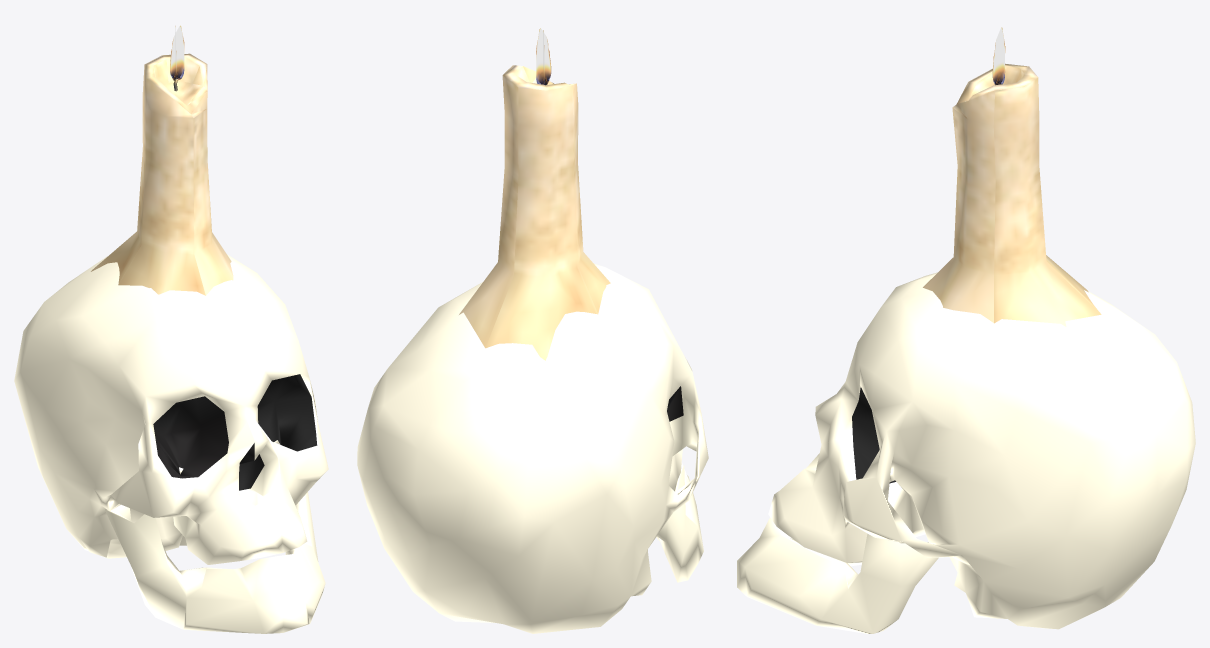
File: CandleSkullShapeA.002.glb
3 renders of one model, left to right at view 1: azimuth 30°, elevation 25°; view 2: azimuth 150°, elevation 25°; view 3: azimuth 270°, elevation 25°, orthographic. The views are drawn at different scales.
Parts seen in each view (by area): view 1: CandleSkullShapeA.002; view 2: CandleSkullShapeA.002; view 3: CandleSkullShapeA.002.
Boxes of the visible parts, x1,y1,x2,y2 form: CandleSkullShapeA.002: [14, 25, 328, 633]; CandleSkullShapeA.002: [357, 28, 708, 633]; CandleSkullShapeA.002: [737, 27, 1195, 633].
Bounding box in the file's own units: 0.2005 × 0.4386 × 0.3132.
Materials: 2 (2 with a texture image).
